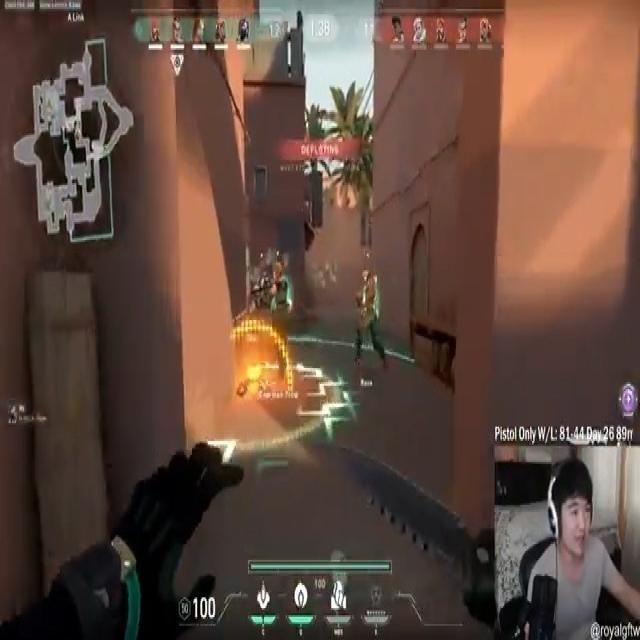ally: (357, 264, 386, 369), (268, 264, 290, 342)
